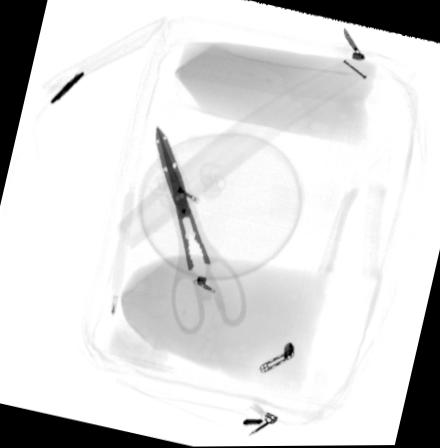Scissors: (154, 126, 247, 336)
